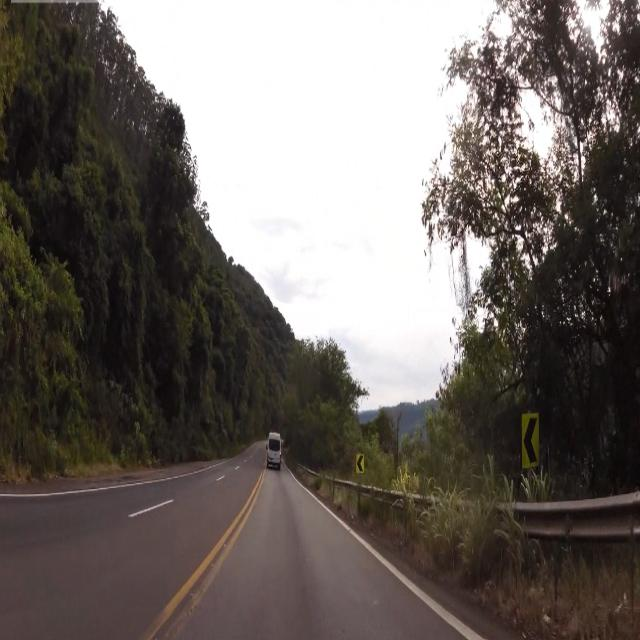Del: (519, 410, 542, 470), (354, 452, 364, 476)
